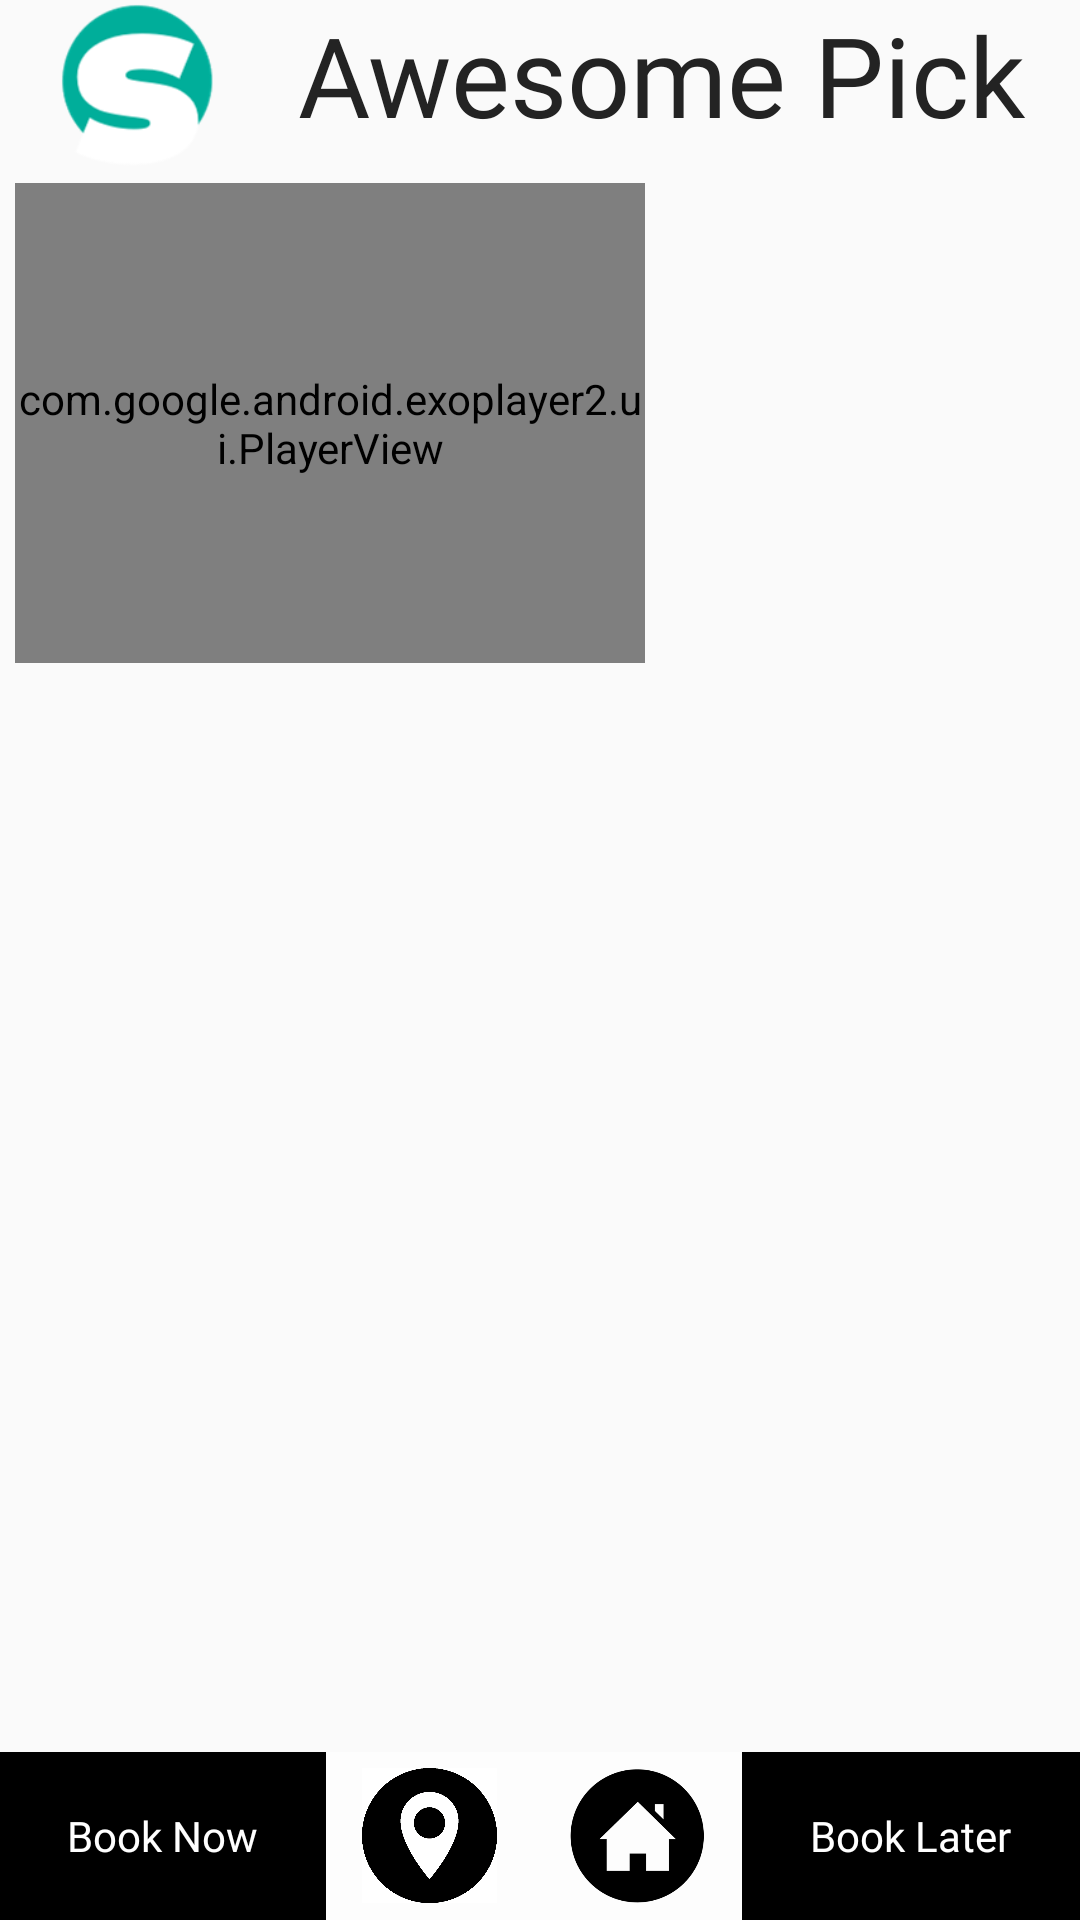

Where icons sit on this 1080px x 1920px app screen, as [x1,y1,x2,y2]:
home: [570,1769,704,1903]
map: [362,1768,497,1903]
